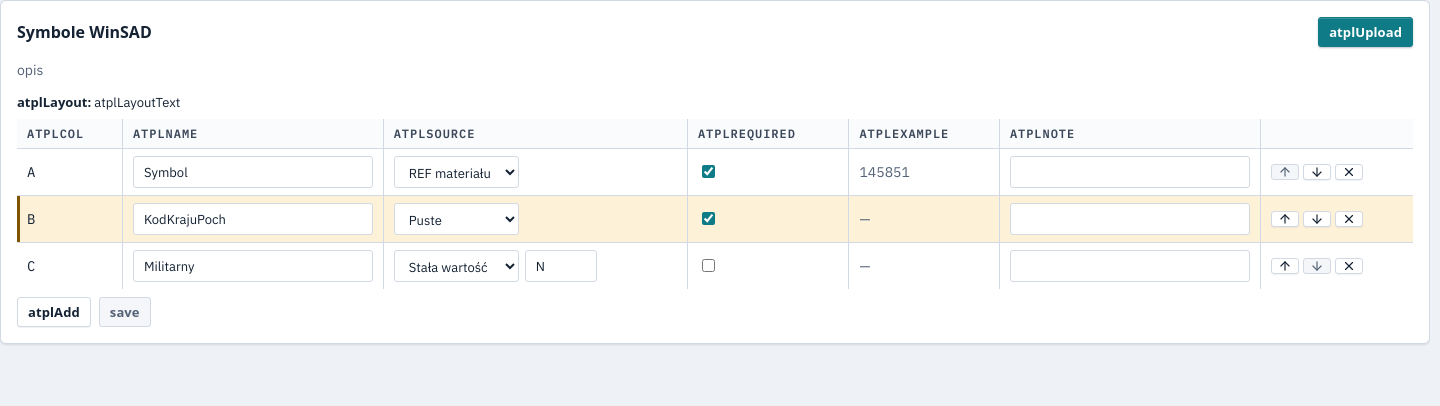
Test: AgencyTemplatesTab › pokazuje układ i edytuje: zmiana kolejności + zapis
Check: the field named "atplName A" holds "Symbol", box [133,156,373,188]
Check: the text "145851" is shown, box [849,148,999,196]
Click the button named "atplDown" in the row of "145851": (1317, 172) [1303,164,1331,180]
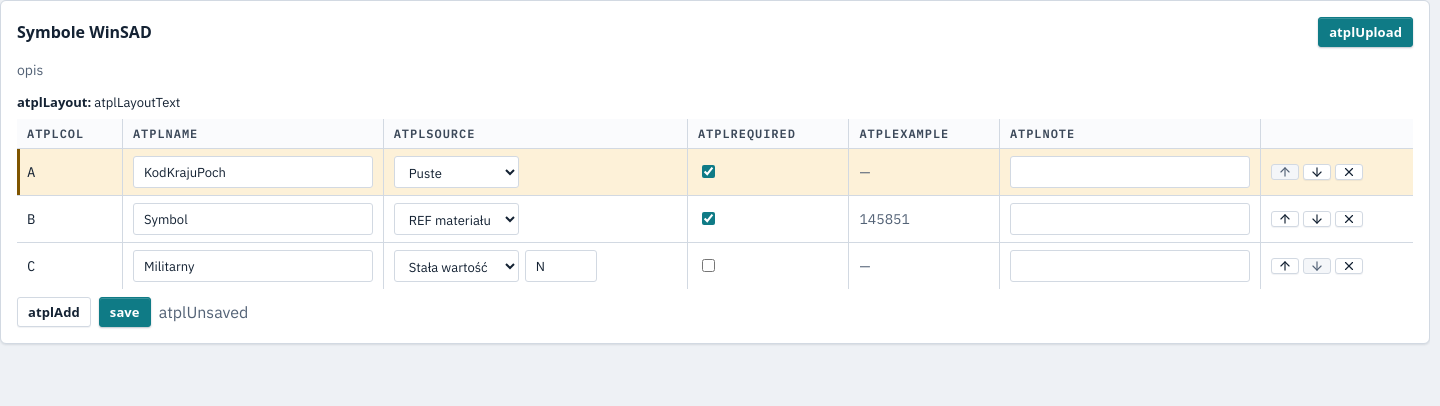
Click the button "save": (125, 312) [99,297,151,327]
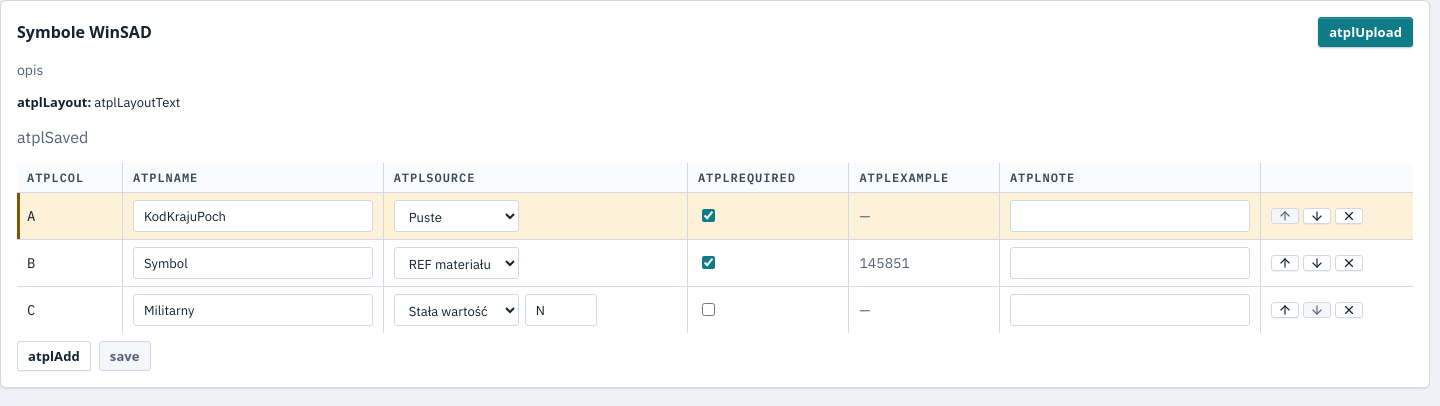
Check: the text "atplSaved" is shown, box [17,127,88,147]
